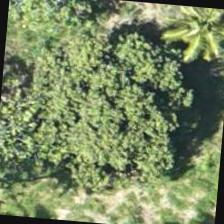Kelapa_Sawit: (142, 3, 223, 83), (176, 37, 223, 133)
